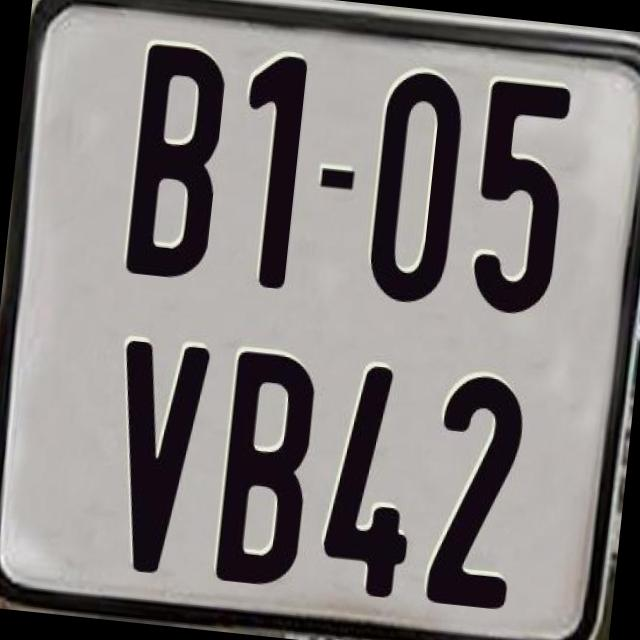0: (364, 63, 470, 310)
1: (228, 51, 316, 291)
2: (423, 367, 529, 608)
4: (318, 360, 432, 608)
5: (462, 75, 570, 322)
B: (210, 348, 322, 592), (125, 40, 231, 282)
V: (98, 339, 210, 586)
